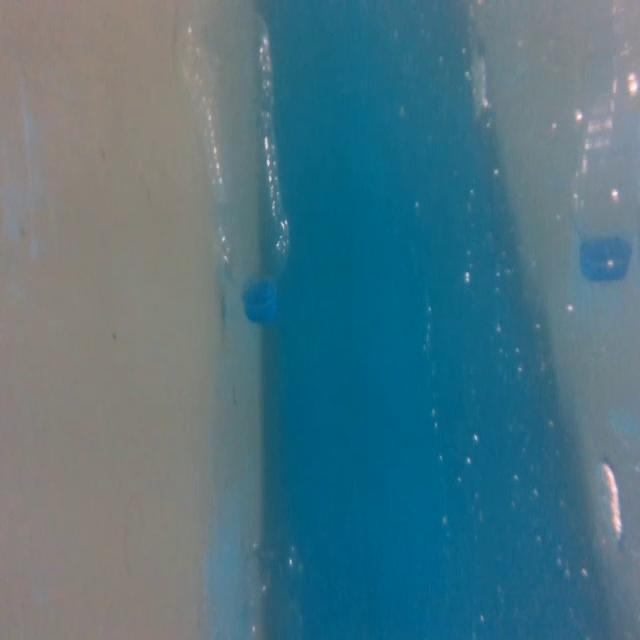plastic bottle: (166, 12, 306, 336)
